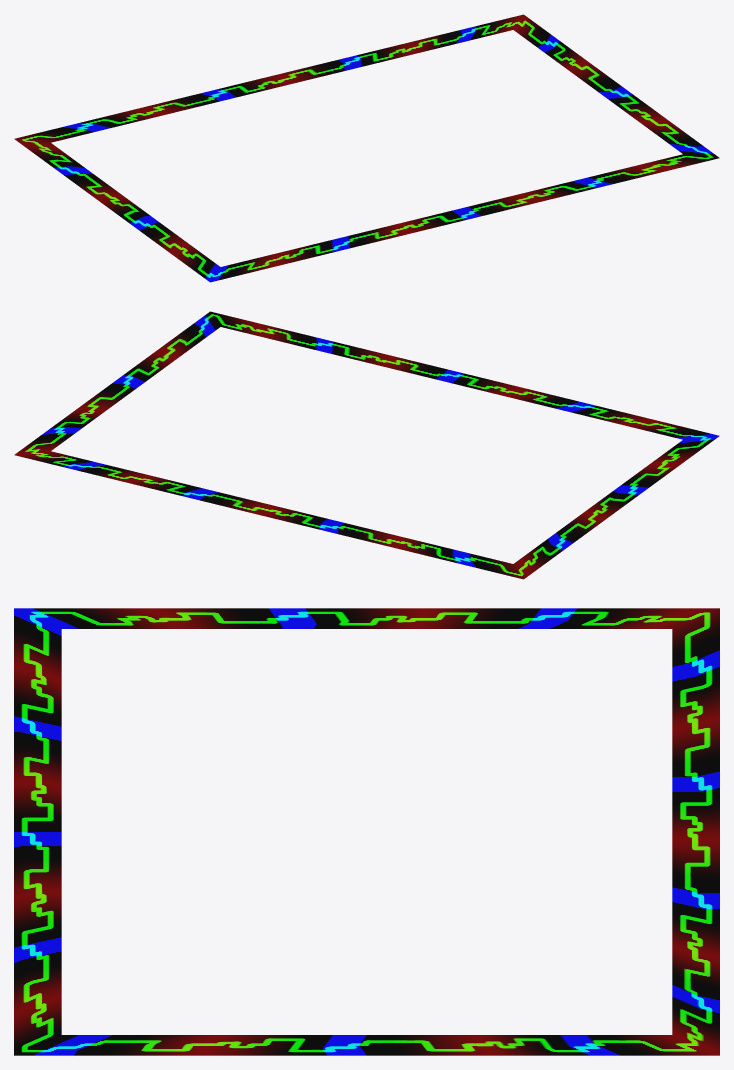
The model's file is Border_01.fbx.
3 renders of one model, top to bottom at view 1: azimuth 30°, elevation 25°; view 2: azimuth 150°, elevation 25°; view 3: azimuth 270°, elevation 25°, orthographic. The views are drawn at different scales.
Parts seen in each view (by area): view 1: Border; view 2: Border; view 3: Border.
Part boxes in pixels (left/top/right/bottom): Border: left=14, top=14, right=719, bottom=282; Border: left=14, top=311, right=719, bottom=579; Border: left=14, top=608, right=719, bottom=1055.
Bounding box in the file's own units: 96.19 × 0 × 64.13.
